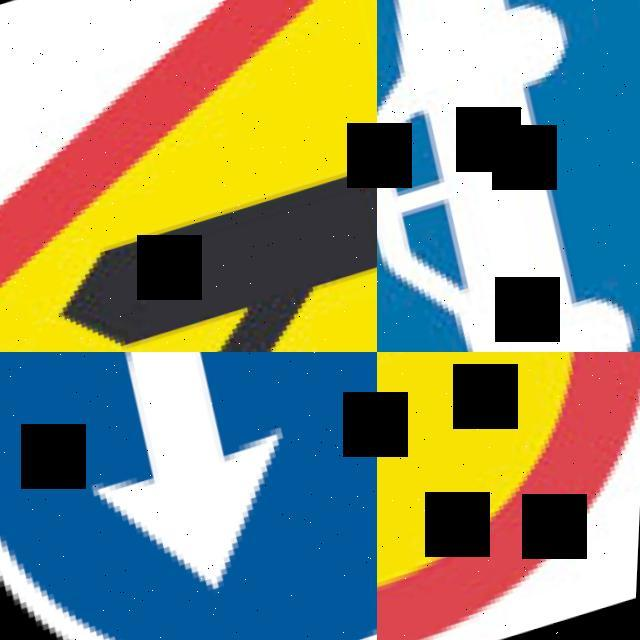166: (0, 0, 377, 352)
36: (377, 352, 640, 640)
69: (377, 0, 640, 352)
Turn right ahead: (0, 352, 377, 640)
